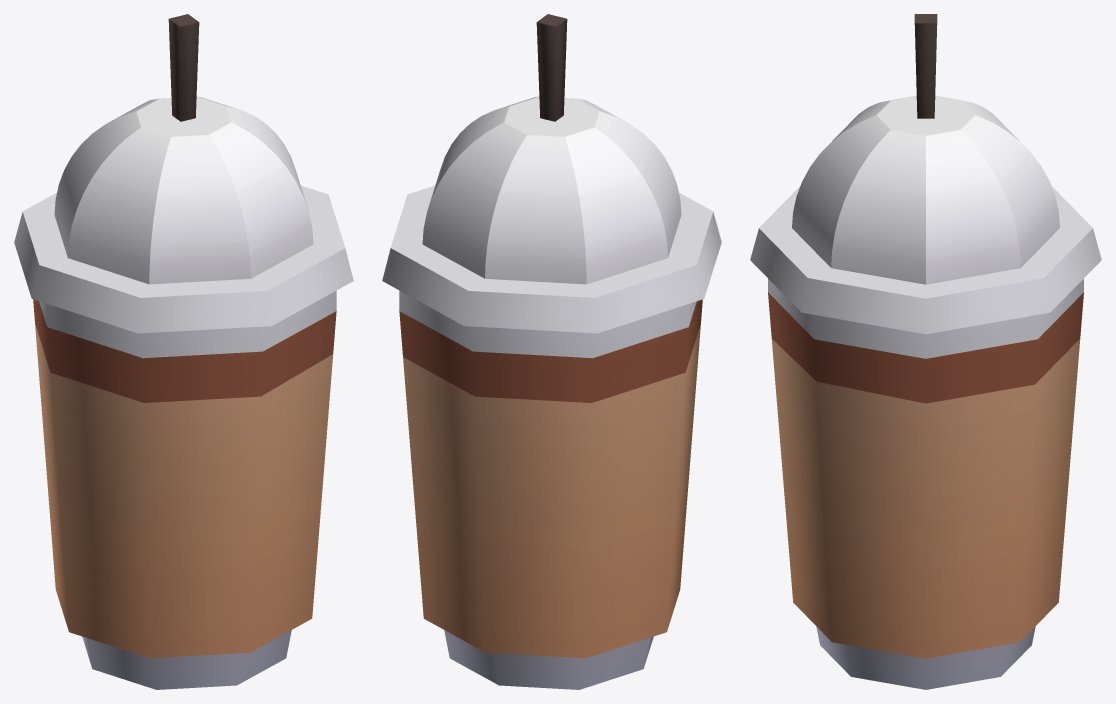
The model's file is frappe.glb.
3 views of the same model, side by side, from view 1: azimuth 30°, elevation 25°; view 2: azimuth 150°, elevation 25°; view 3: azimuth 270°, elevation 25° (orthographic).
Parts seen in each view (by area): view 1: frappe; view 2: frappe; view 3: frappe.
Part boxes in pixels (box(x1,y1,x2,y2)): frappe: box(14, 14, 353, 689); frappe: box(382, 14, 721, 689); frappe: box(750, 14, 1101, 689).
Size of the model in its own units: 0.2541 by 0.4993 by 0.2541.
1 material, 1 textured.
